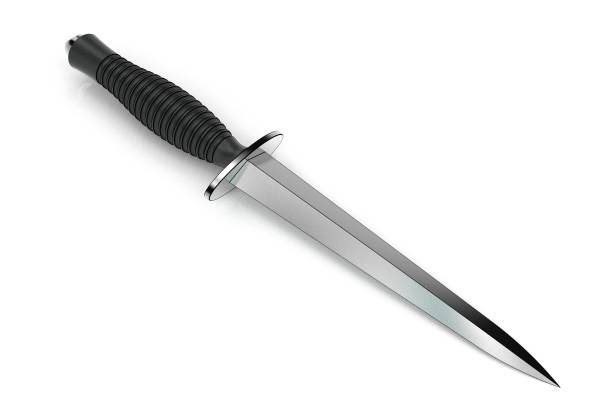knife: (63, 29, 562, 391)
